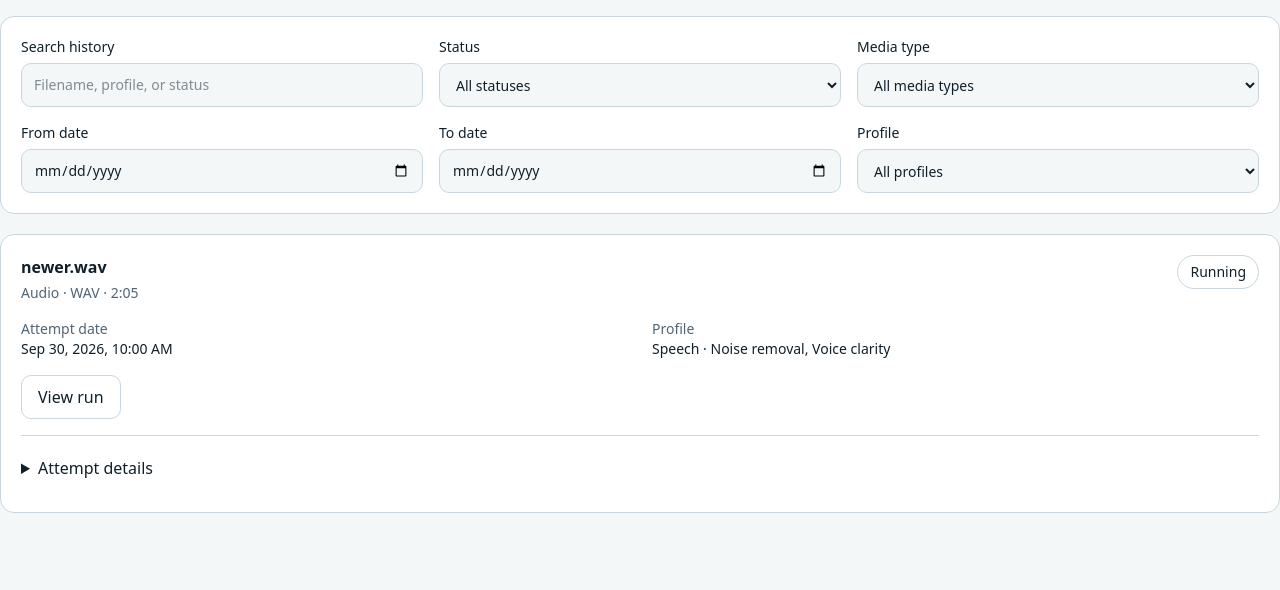
local history view › surfaces invalid date ranges
Check: the search field labelled "Search history" is shown, box [21,63,423,107]
Step 1. Type "2026-09-30" into the date field labelled "From date" → point(222, 171), box [21,149,423,193]
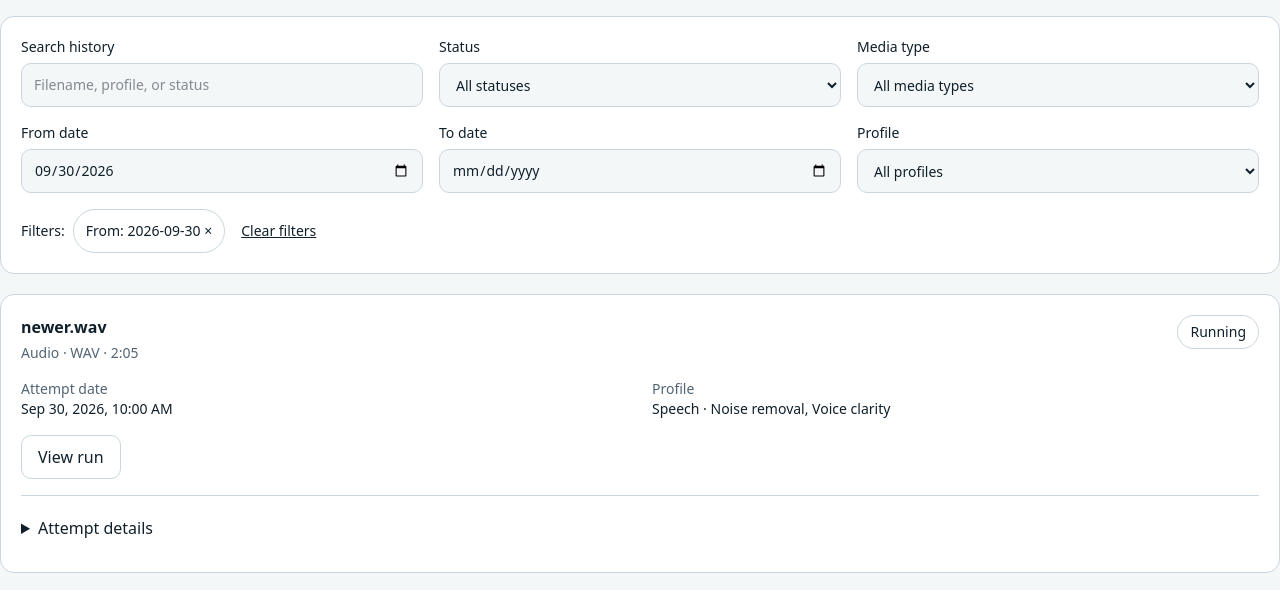
Step 2. Type "2026-09-29" into the date field labelled "To date" → point(640, 171), box [439,149,841,193]
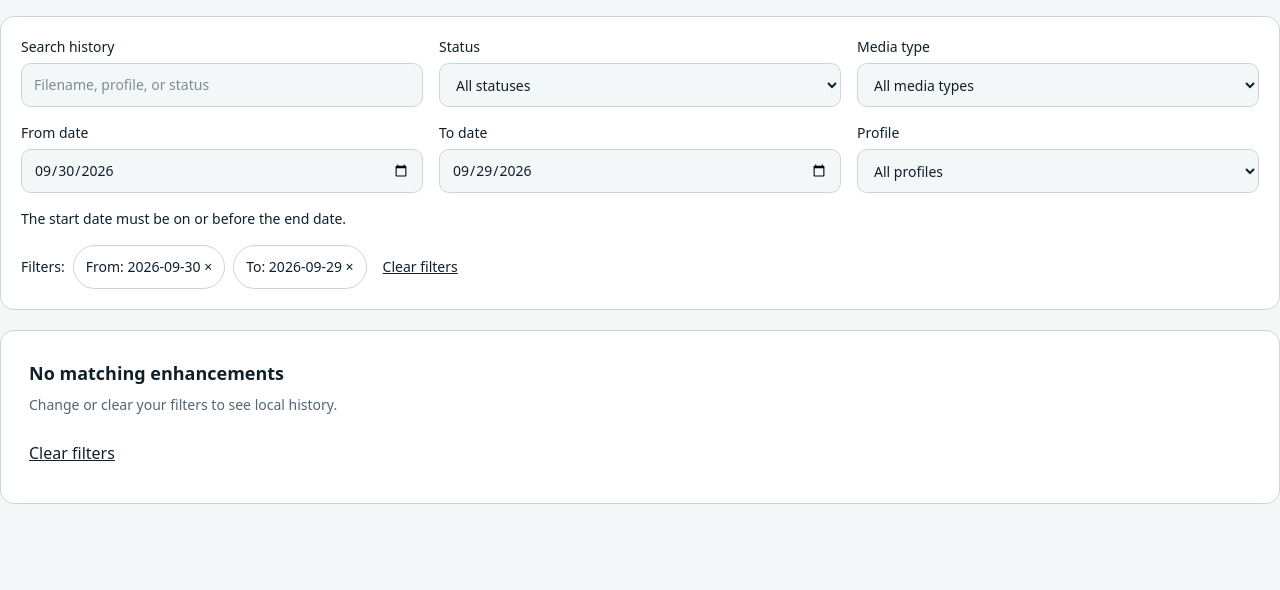
Check: the message shows "start date must be on or before the end date", box [21,209,346,228]
